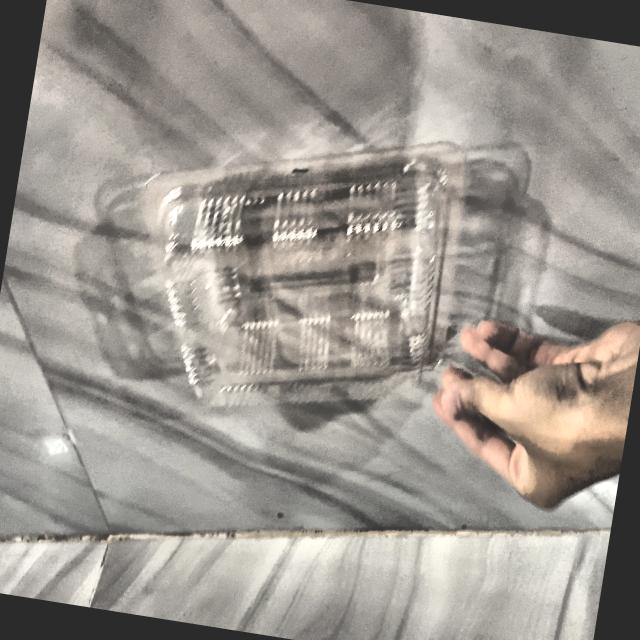plastic container: (127, 114, 480, 437)
